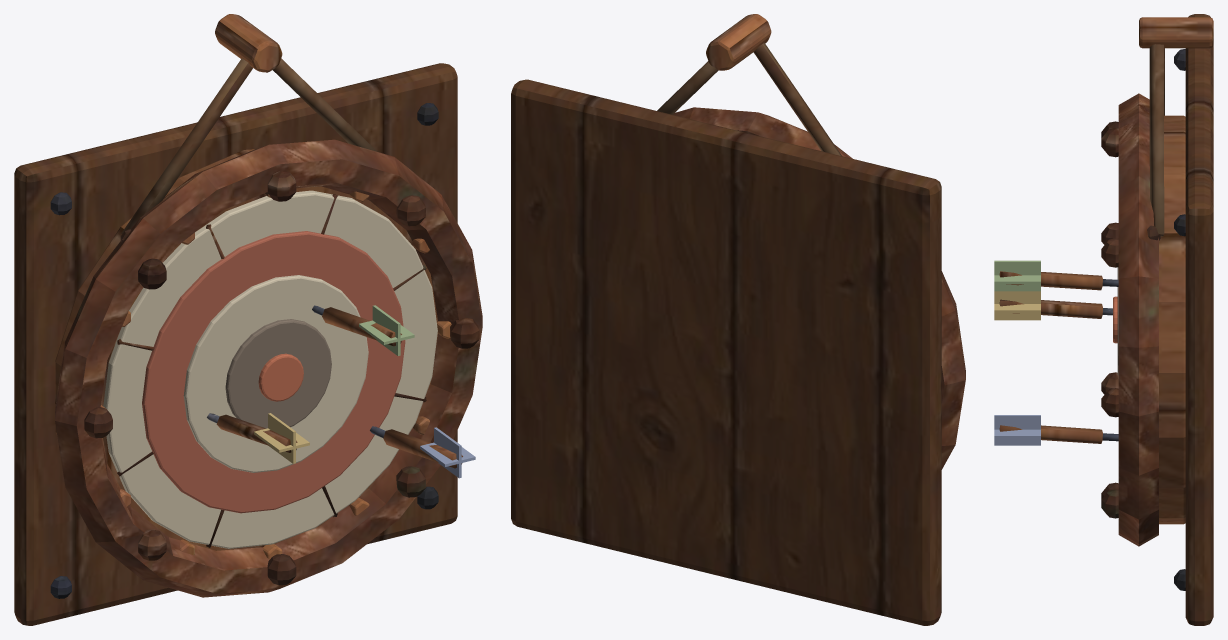
File: dartboard.glb
3 renders of one model, left to right at view 1: azimuth 30°, elevation 25°; view 2: azimuth 150°, elevation 25°; view 3: azimuth 270°, elevation 25°, orthographic. The views are drawn at different scales.
Parts seen in each view (by area): view 1: model; view 2: model; view 3: model.
Boxes of the visible parts, box(x1,y1,x2,y2) form: model: box(14, 14, 482, 625); model: box(511, 14, 965, 625); model: box(994, 14, 1213, 625).
Size of the model in its own units: 0.5 by 0.6071 by 0.235.
15 materials, 8 textured.
